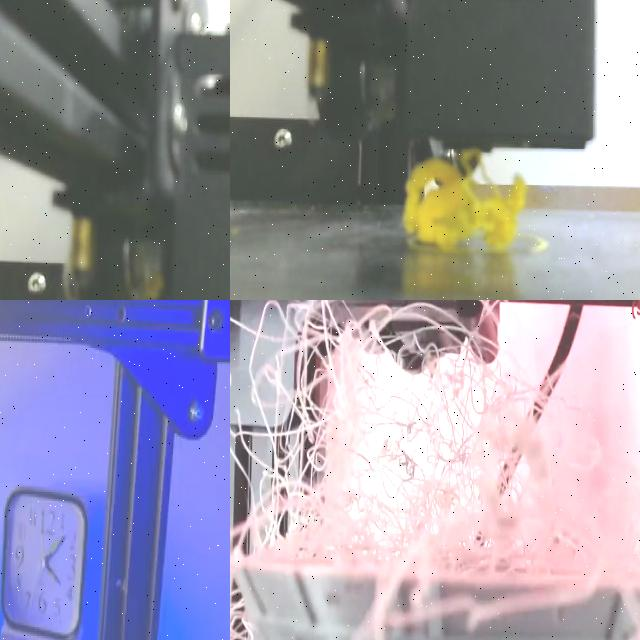spaghetti: (231, 300, 640, 640), (403, 151, 526, 250)
